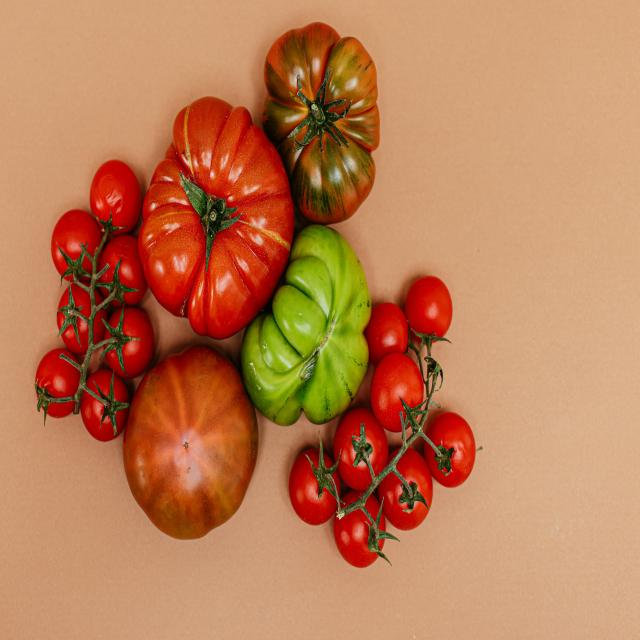Tomato: (134, 100, 298, 340), (128, 359, 252, 541), (384, 449, 435, 547), (426, 406, 477, 488), (335, 493, 390, 569), (55, 214, 108, 289), (291, 446, 344, 515), (342, 416, 385, 485)
